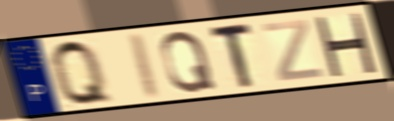H: (312, 12, 379, 78)
I: (129, 30, 164, 102)
Q: (48, 37, 117, 108), (158, 29, 219, 95)
T: (208, 20, 256, 91)
Z: (259, 17, 325, 84)
